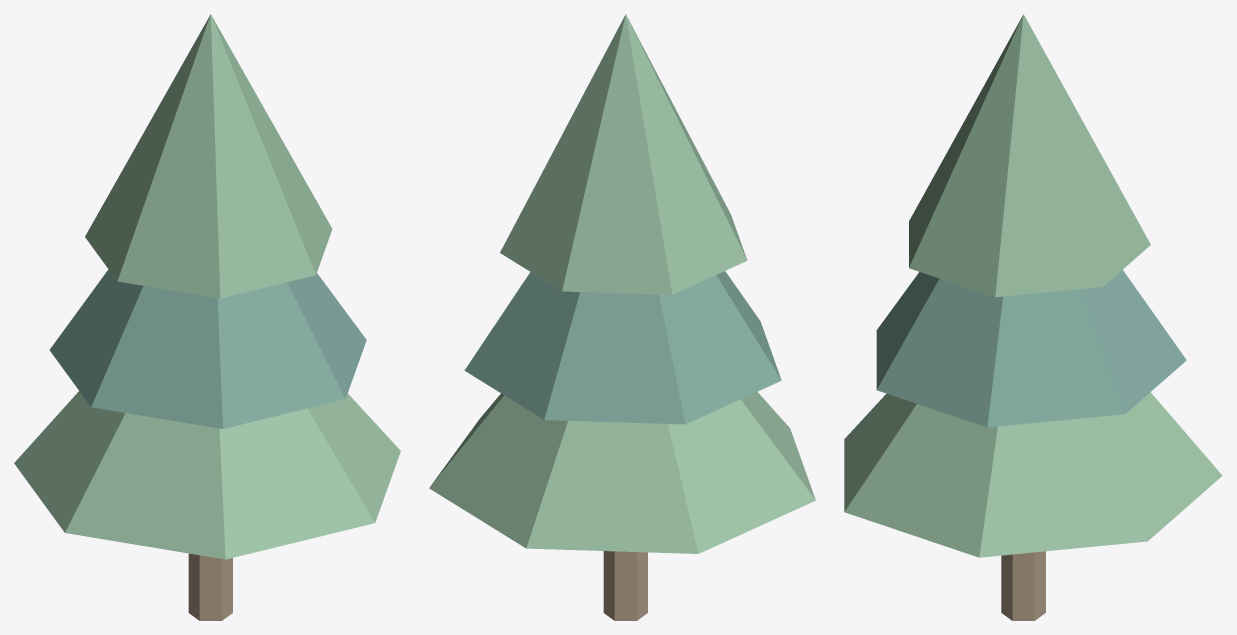
File: tree_pine.glb
3 renders of one model, left to right at view 1: azimuth 30°, elevation 25°; view 2: azimuth 150°, elevation 25°; view 3: azimuth 270°, elevation 25°, orthographic.
Parts seen in each view (by area): view 1: tree_pine__evergreen_tier, tree_pine__evergreen_tier.002, tree_pine__evergreen_tier.001, tree_pine__trunk; view 2: tree_pine__evergreen_tier, tree_pine__evergreen_tier.002, tree_pine__evergreen_tier.001, tree_pine__trunk; view 3: tree_pine__evergreen_tier, tree_pine__evergreen_tier.002, tree_pine__evergreen_tier.001, tree_pine__trunk.
Part boxes in pixels (x1=…): tree_pine__evergreen_tier: x1=14, y1=391, x2=400, y2=559; tree_pine__evergreen_tier.002: x1=85, y1=14, x2=332, y2=298; tree_pine__evergreen_tier.001: x1=49, y1=269, x2=366, y2=428; tree_pine__trunk: x1=188, y1=553, x2=232, y2=620; tree_pine__evergreen_tier: x1=429, y1=392, x2=815, y2=553; tree_pine__evergreen_tier.002: x1=500, y1=14, x2=747, y2=294; tree_pine__evergreen_tier.001: x1=464, y1=271, x2=781, y2=424; tree_pine__trunk: x1=603, y1=551, x2=647, y2=620; tree_pine__evergreen_tier: x1=844, y1=392, x2=1222, y2=557; tree_pine__evergreen_tier.002: x1=909, y1=14, x2=1150, y2=297; tree_pine__evergreen_tier.001: x1=876, y1=270, x2=1186, y2=427; tree_pine__trunk: x1=1001, y1=551, x2=1045, y2=620.
Bounding box in the file's own units: 4.87 × 8.3 × 4.75.
